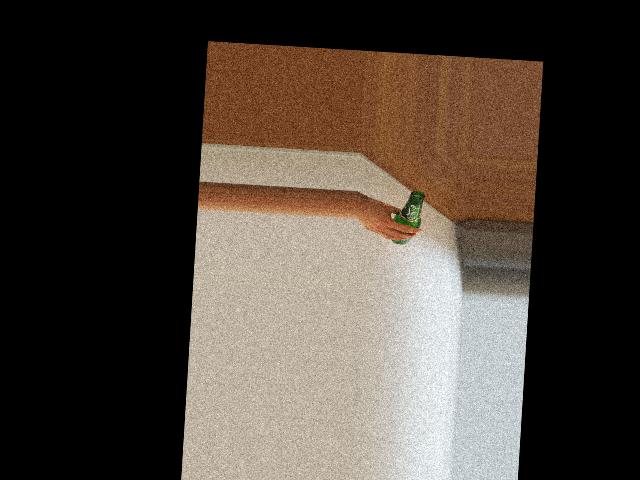beer: (392, 189, 424, 245)
